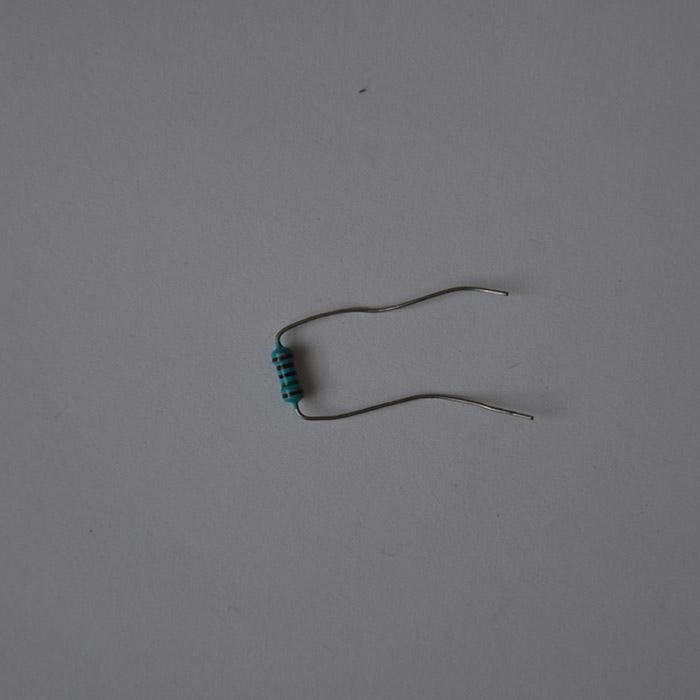resistor: (270, 340, 304, 409)
